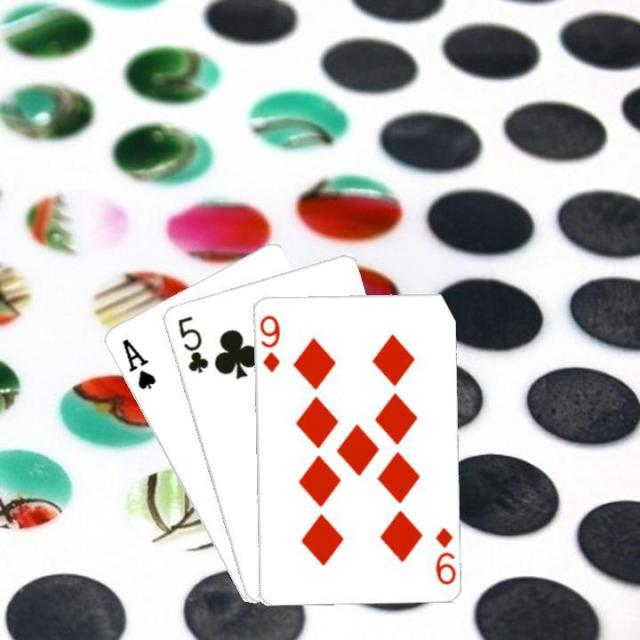5C: (173, 312, 210, 375)
9D: (257, 311, 282, 374), (431, 522, 455, 586)
AS: (118, 334, 158, 392)
